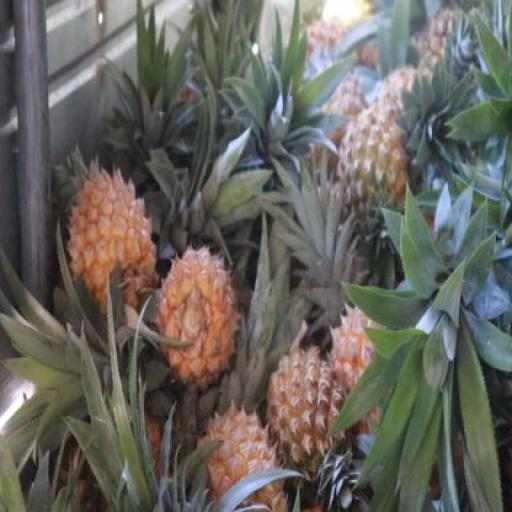Pineapple - v8 v1: (66, 164, 156, 311), (266, 341, 346, 489), (157, 242, 236, 376), (196, 400, 288, 512)
